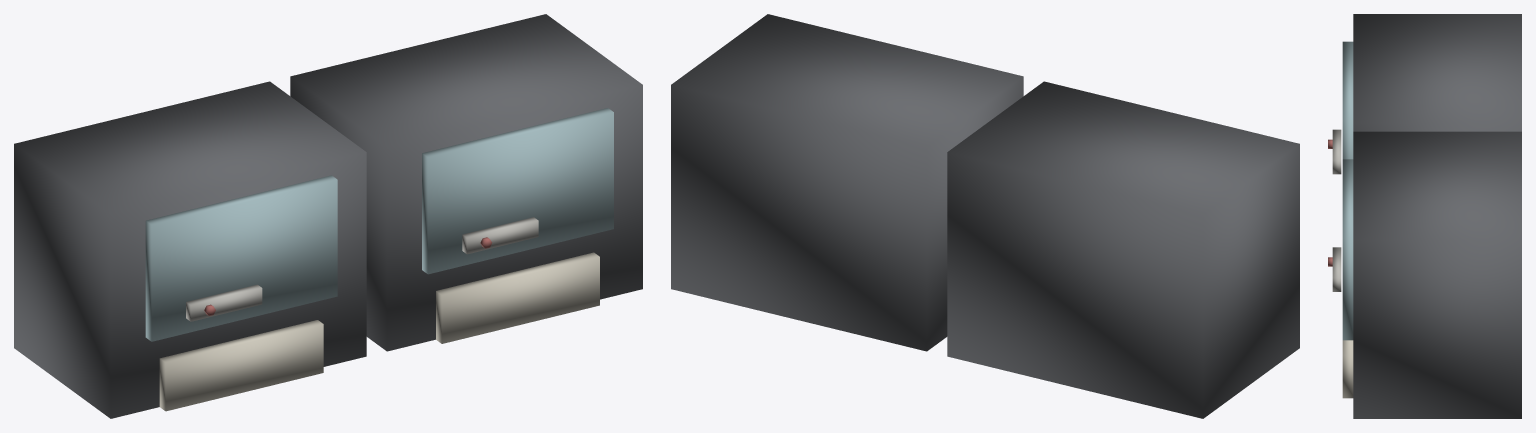
The model's file is microfilm_reader__cluster.glb.
3 renders of one model, left to right at view 1: azimuth 30°, elevation 25°; view 2: azimuth 150°, elevation 25°; view 3: azimuth 270°, elevation 25°, orthographic. The views are drawn at different scales.
Visible parts, largest first — view 1: world; view 2: world; view 3: world.
Boxes of the visible parts, x1,y1,x2,y2 form: world: [14, 14, 642, 418]; world: [671, 14, 1299, 418]; world: [1328, 14, 1521, 418].
Size of the model in its own units: 1.14 by 0.42 by 0.4135.
